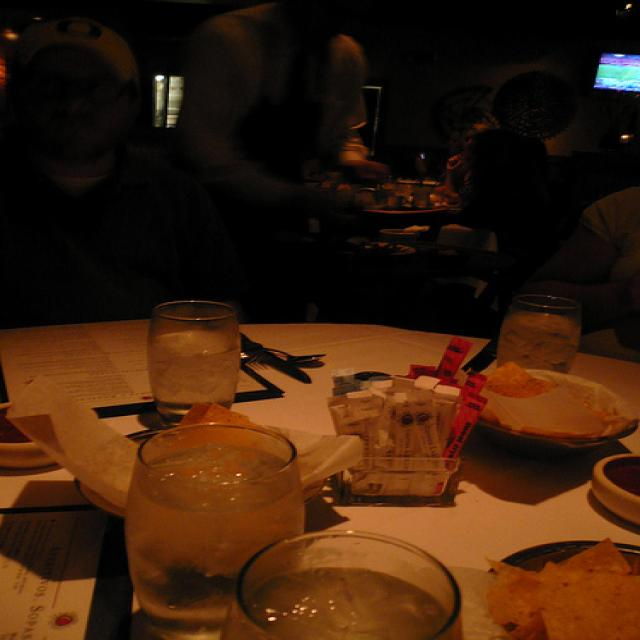Cup: (127, 435, 312, 609), (226, 516, 441, 640), (140, 296, 263, 412), (492, 293, 603, 393)
People: (10, 0, 181, 273), (201, 0, 379, 250), (478, 43, 585, 236), (584, 140, 640, 327)
Table: (0, 298, 640, 640)
